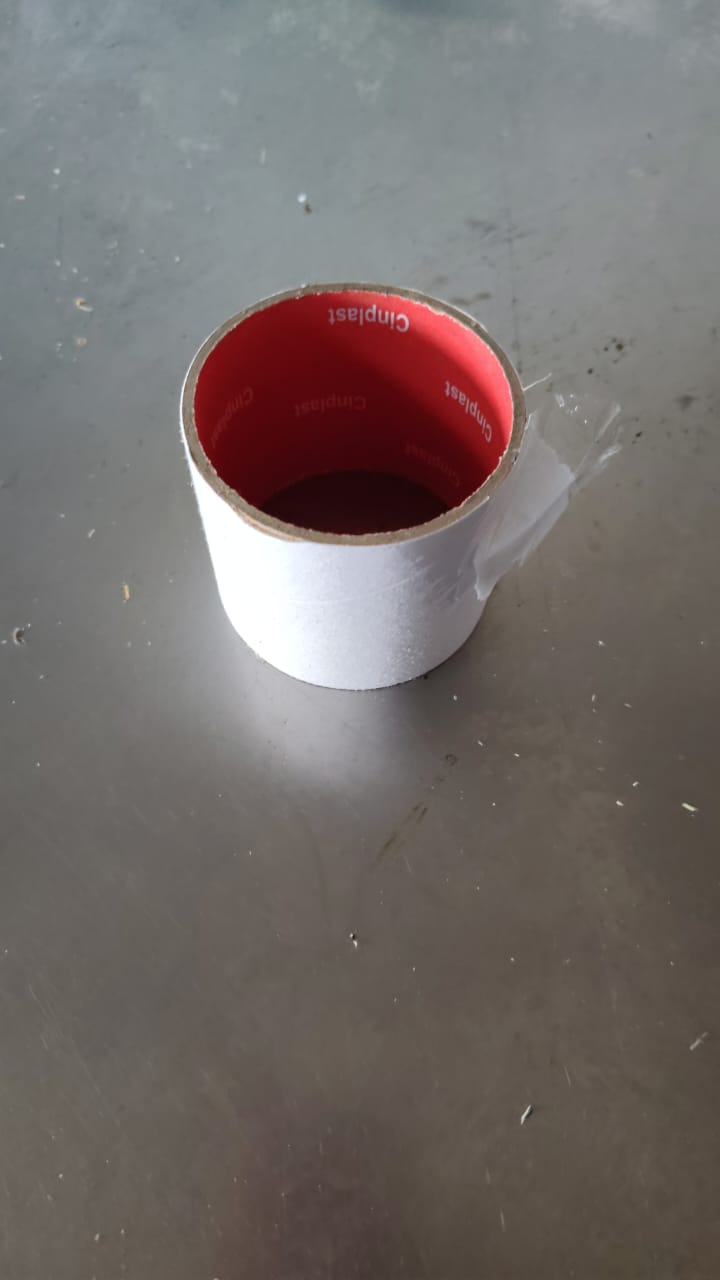Carton: (179, 286, 530, 686)
